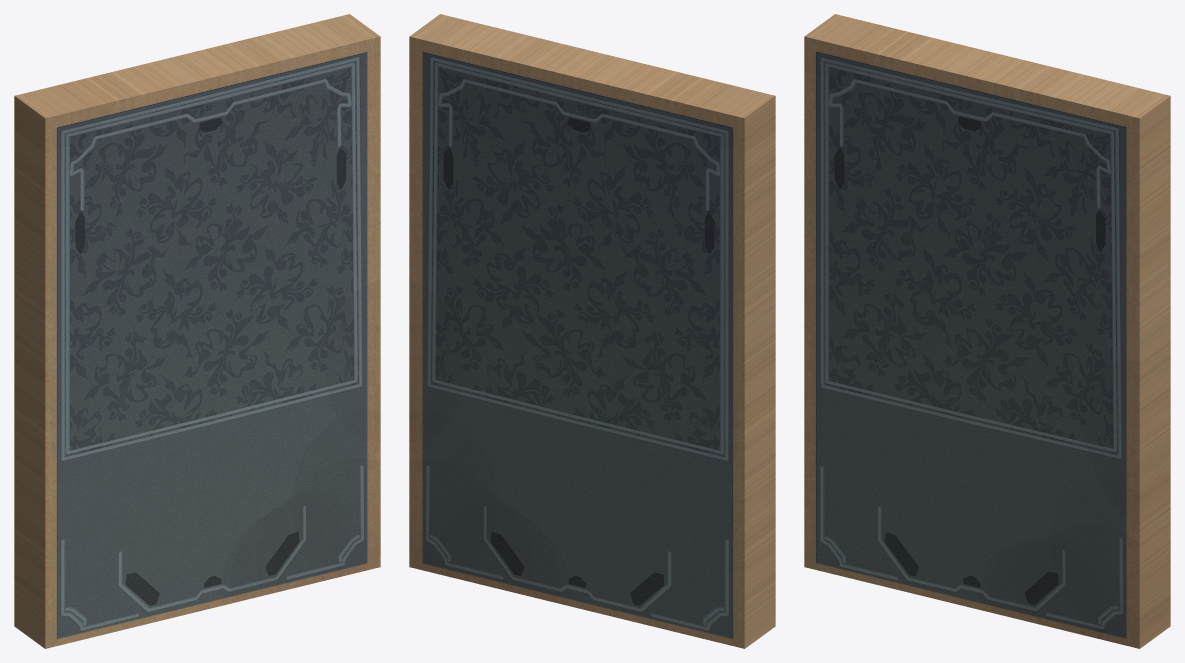
Rendered from SM_Wall_01 1.fbx.
3 renders of one model, left to right at view 1: azimuth 30°, elevation 25°; view 2: azimuth 150°, elevation 25°; view 3: azimuth 330°, elevation 25°, orthographic.
Parts seen in each view (by area): view 1: Plane003; view 2: Plane003; view 3: Plane003.
Boxes of the visible parts, <box> form: Plane003: <box>14,14,380,648</box>; Plane003: <box>409,14,775,648</box>; Plane003: <box>804,14,1170,648</box>.
Size of the model in its own units: 135 by 205 by 21.56.
